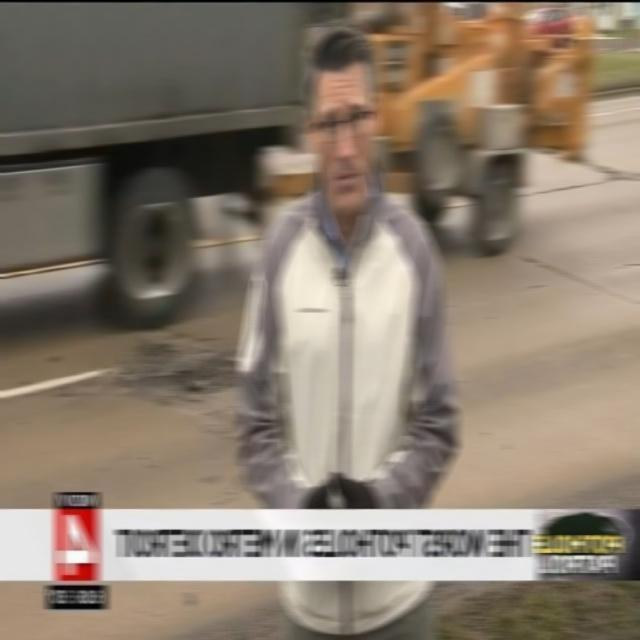Pothole: (34, 322, 240, 413)
